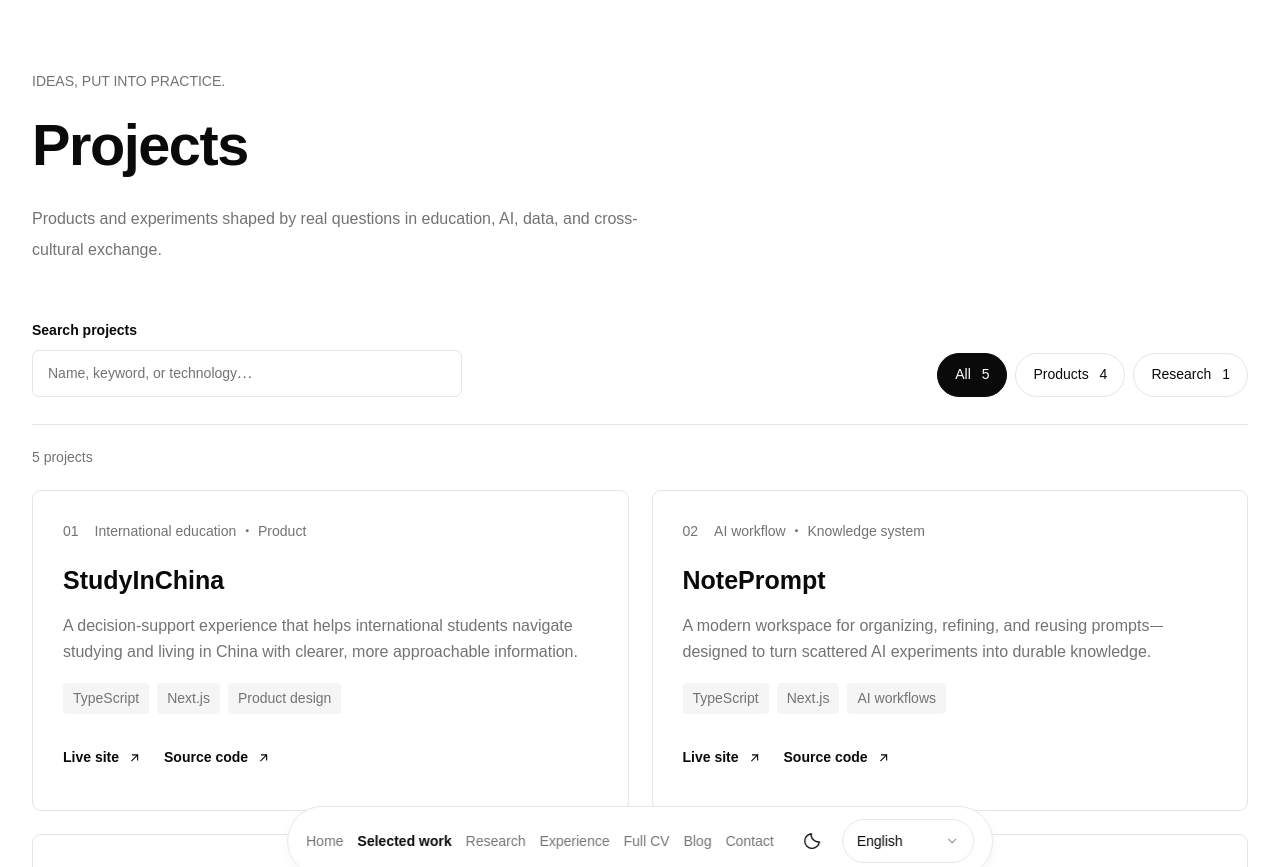
Test case: project discovery › finds Chinese descriptions and keeps discovery controls localized
The width and height of the screenshot is (1280, 867).
Click the dropdown at (908, 841), box [842, 819, 974, 863]
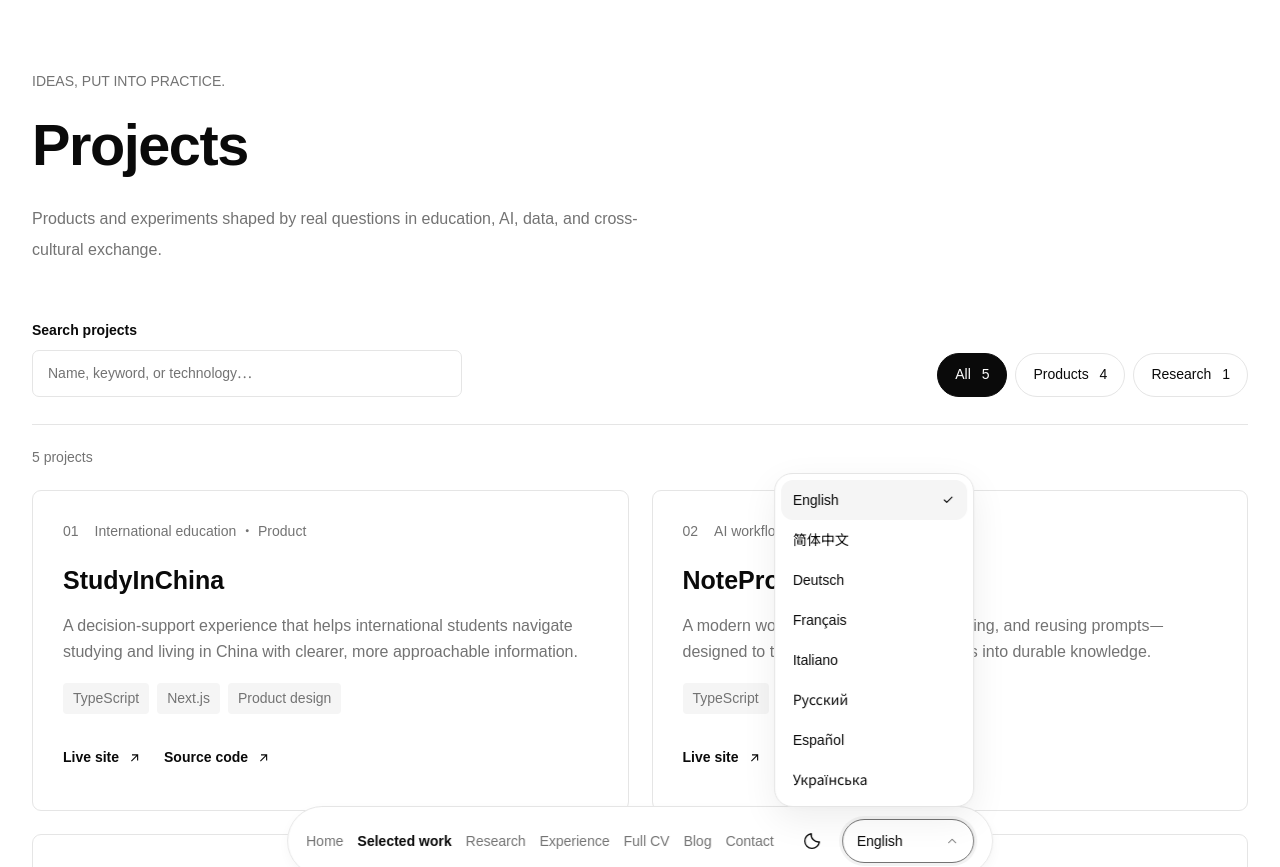
Click the option "简体中文" at (821, 540), box [793, 532, 849, 548]
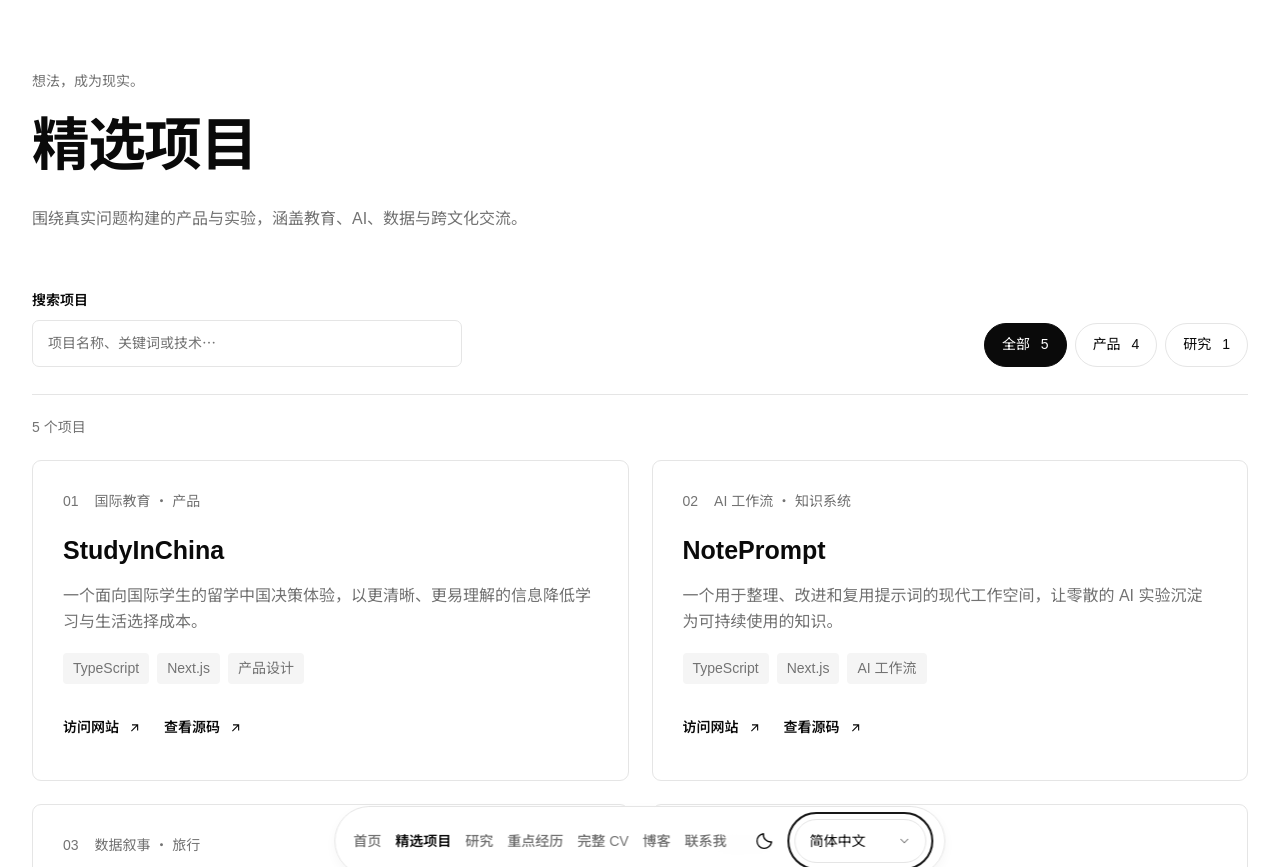
Type "小票" into the search field labelled "搜索项目" at (247, 343), box [32, 320, 462, 367]
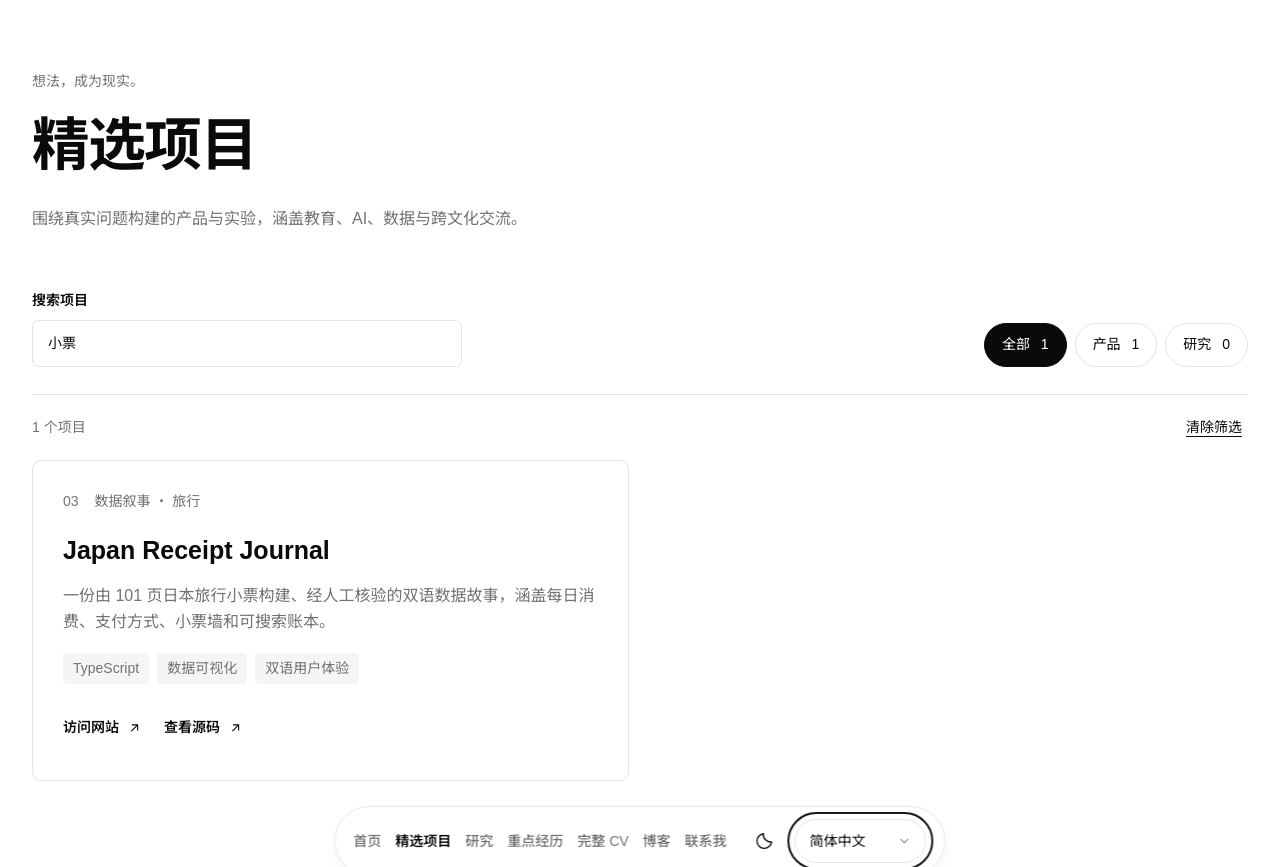
Expected: the heading "Japan Receipt Journal" is shown, [63, 536, 330, 564]
Expected: the message reads "1 个项目", [32, 419, 86, 435]
Click the button "清除筛选" at (1214, 427), box [1180, 405, 1248, 449]
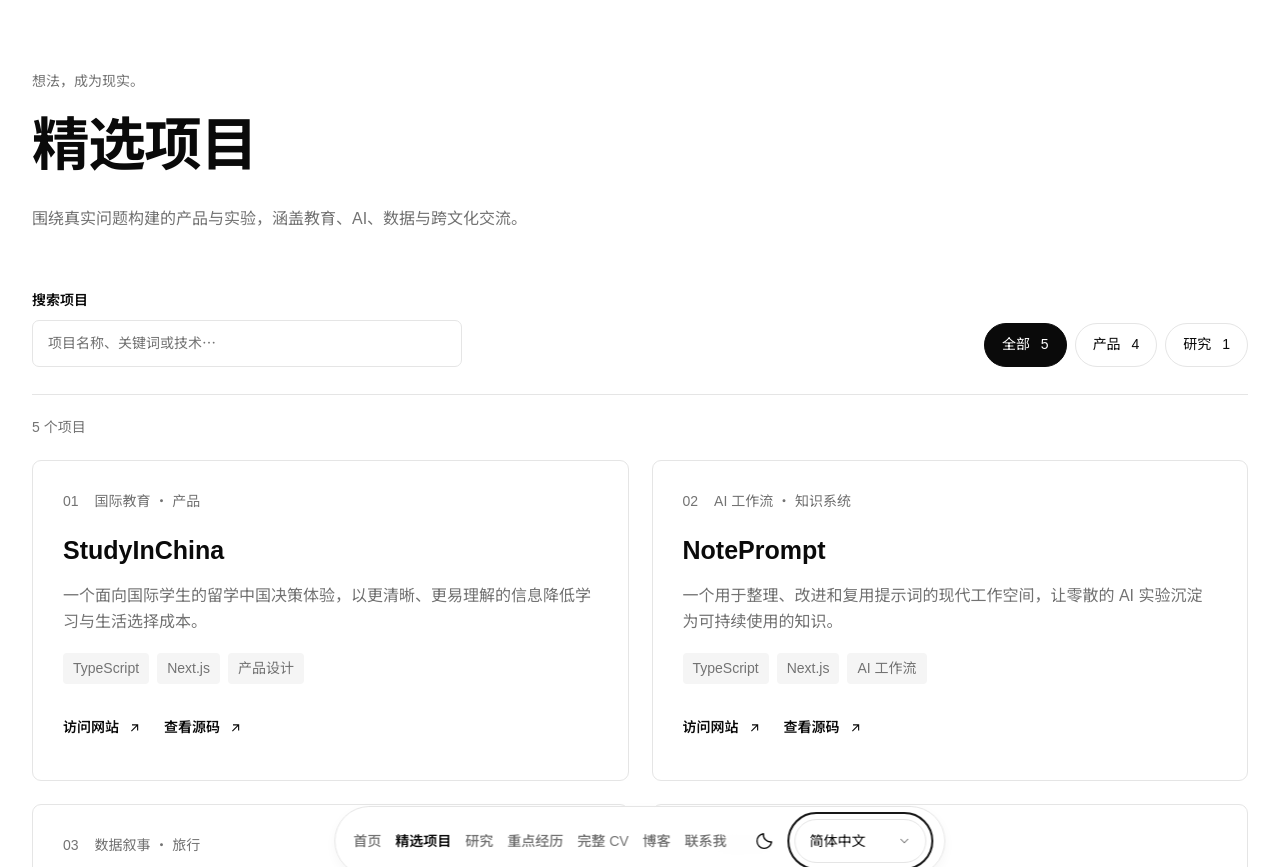
Expected: the message reads "5 个项目", [32, 419, 86, 435]
